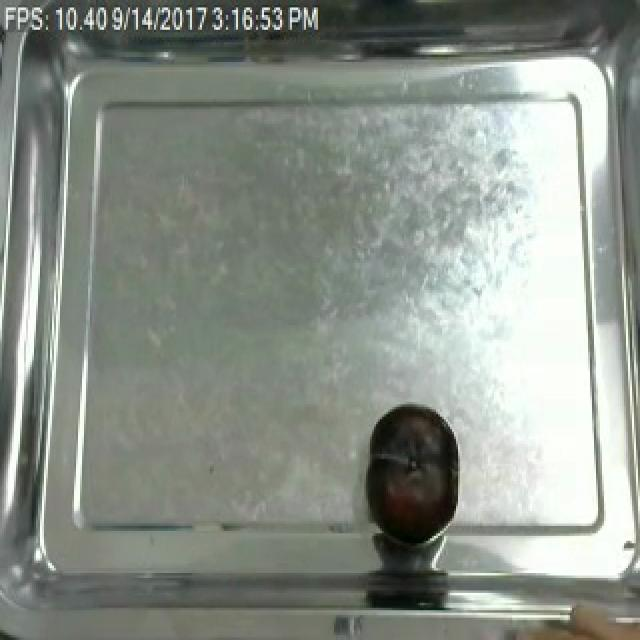Fruit: (362, 399, 462, 548)
